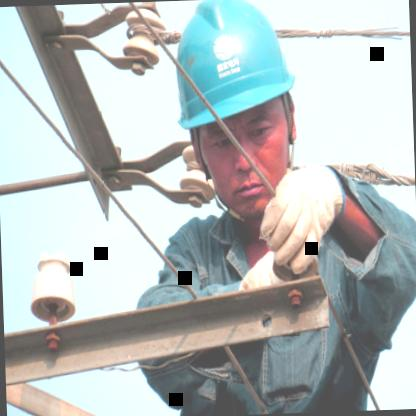helmet: (159, 0, 313, 227)
